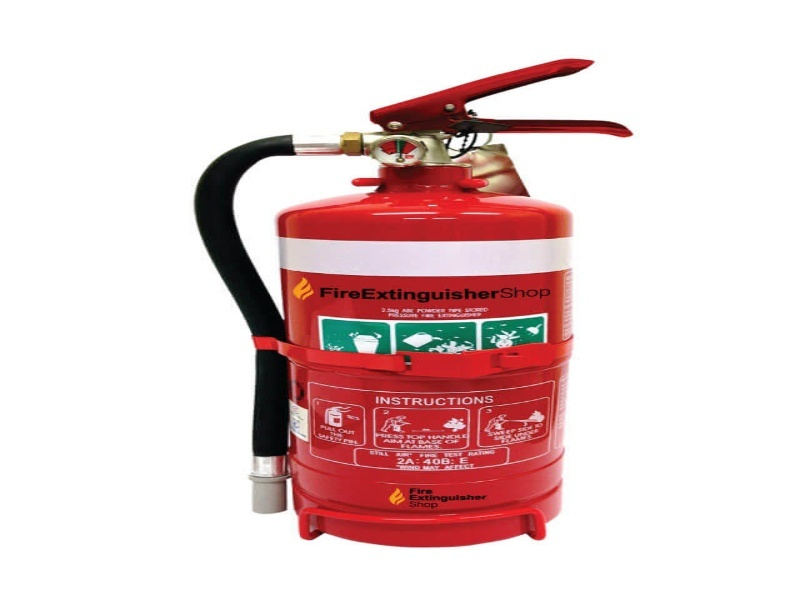fire_extinguisher: (165, 23, 648, 553)
